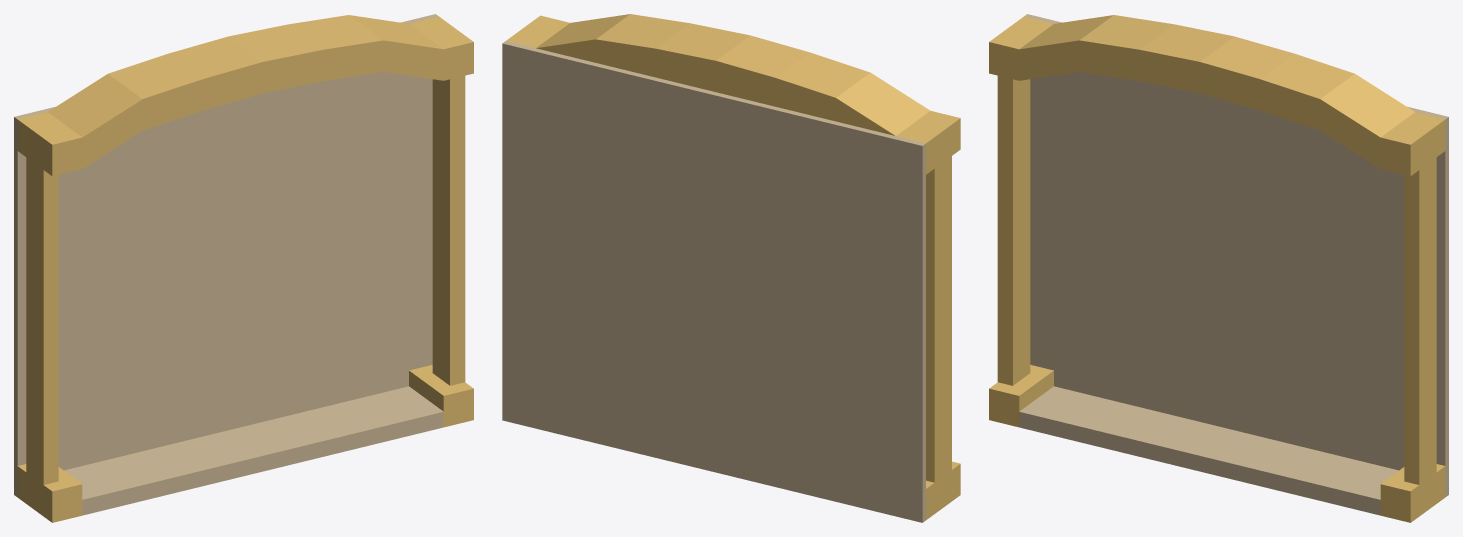
The model's file is Wall.fbx.
3 renders of one model, left to right at view 1: azimuth 30°, elevation 25°; view 2: azimuth 150°, elevation 25°; view 3: azimuth 330°, elevation 25°, orthographic.
Parts seen in each view (by area): view 1: Wall repeat No details.001; view 2: Wall repeat No details.001; view 3: Wall repeat No details.001.
Boxes of the visible parts, left/top/right/bottom form: Wall repeat No details.001: left=14, top=14, right=473, bottom=522; Wall repeat No details.001: left=502, top=14, right=960, bottom=522; Wall repeat No details.001: left=989, top=14, right=1448, bottom=522.
Size of the model in its own units: 1400 by 1300 by 220.
